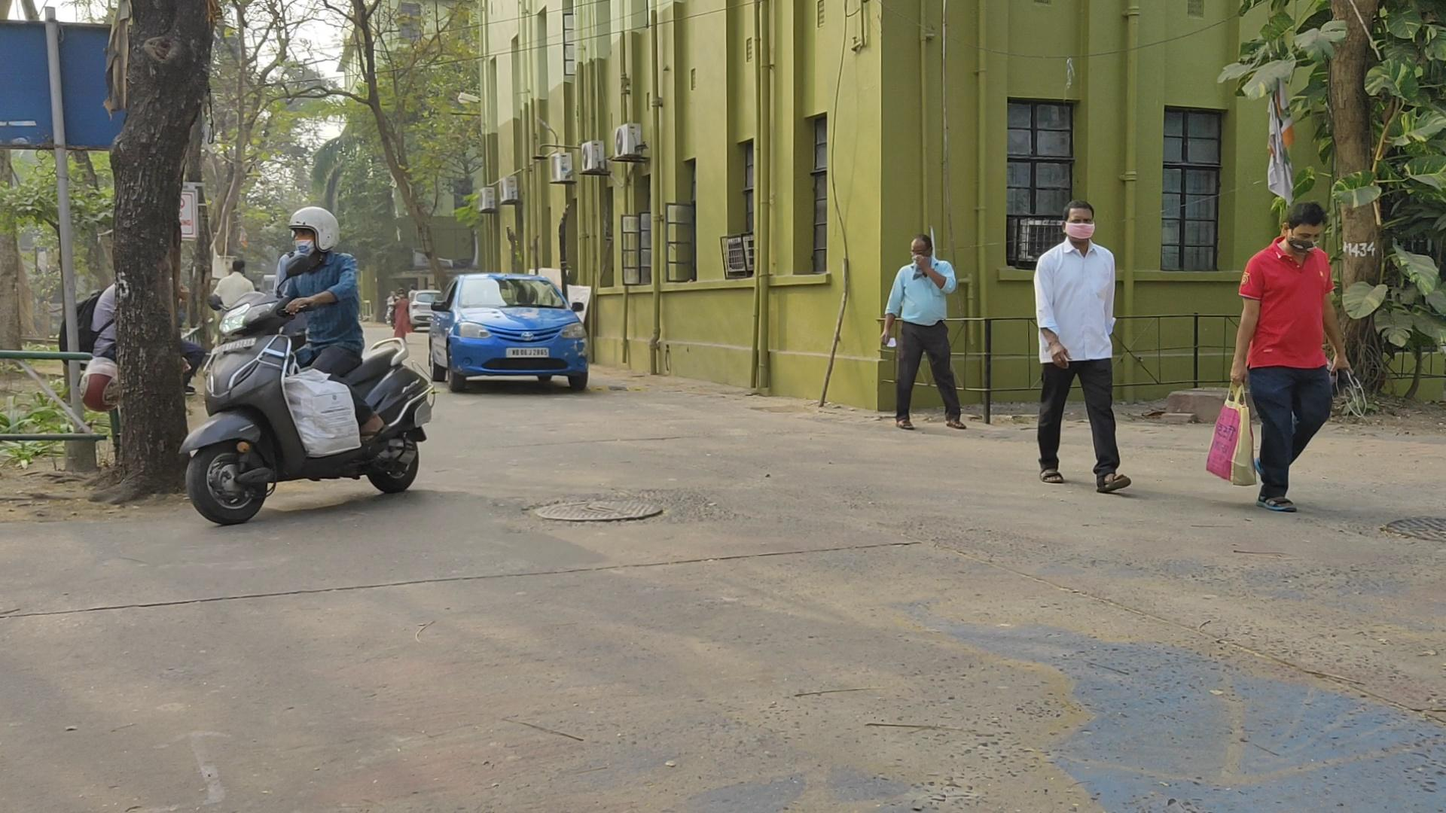bike: (178, 202, 438, 525)
car: (429, 272, 588, 394)
